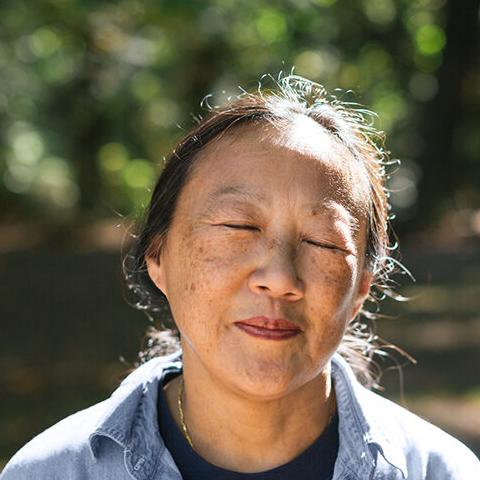closed: (193, 177, 366, 271)
